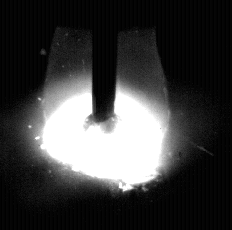arame: (93, 0, 117, 121)
poca: (42, 0, 168, 230)
